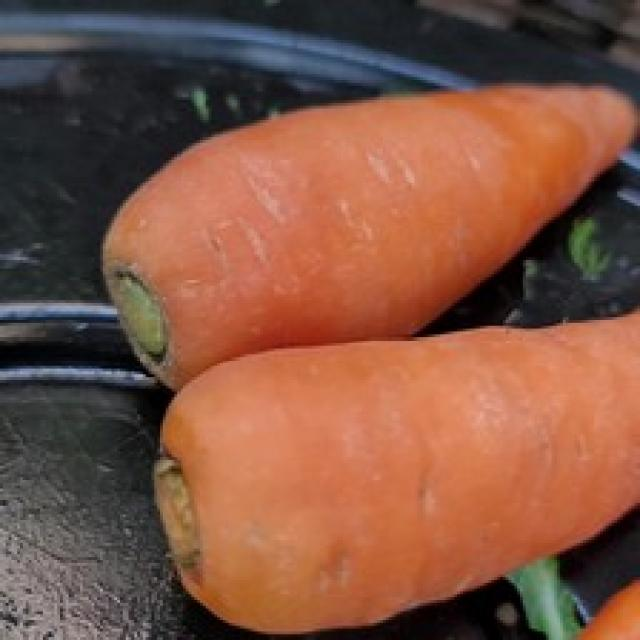Fresh_Carrot: (160, 300, 640, 632), (99, 80, 640, 320)
